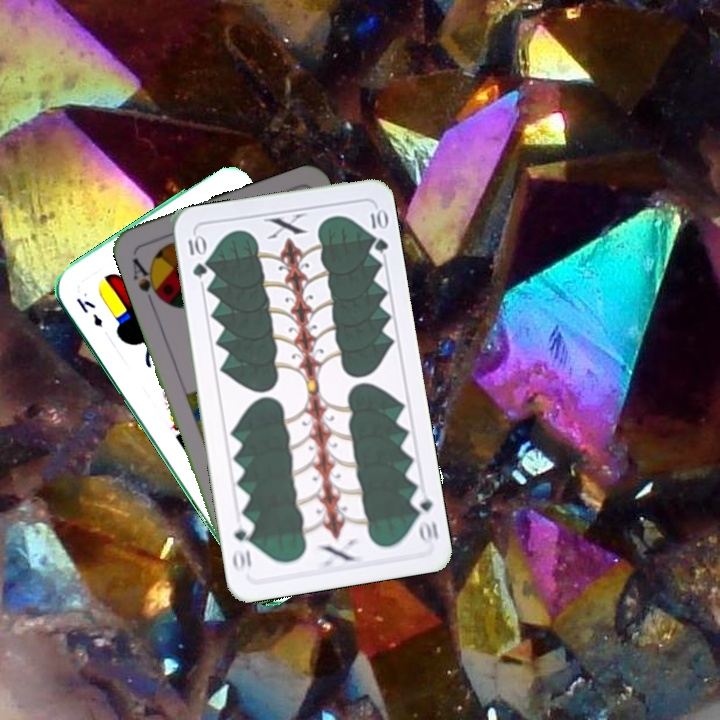EK: (72, 293, 105, 330)
G10: (407, 487, 441, 547), (184, 231, 209, 281)
SA: (128, 254, 166, 308)
